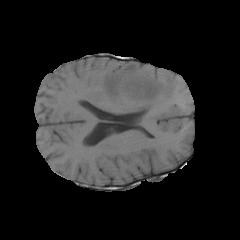glioma: (101, 62, 178, 112)
